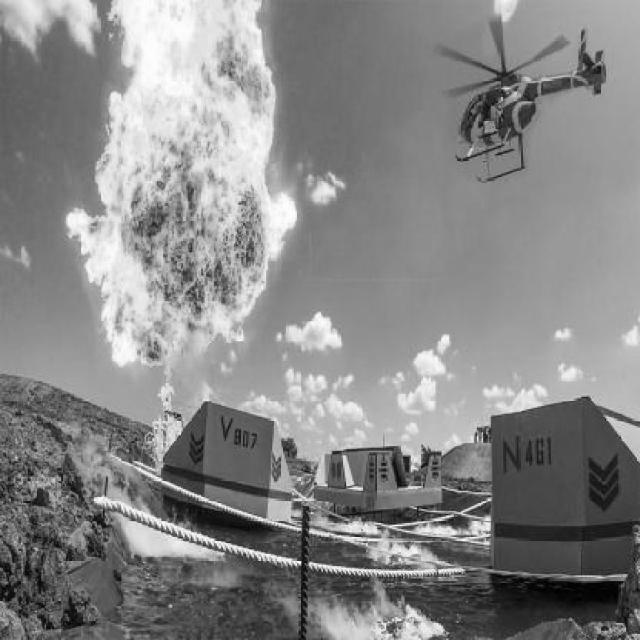helikopter: (424, 10, 612, 212)
